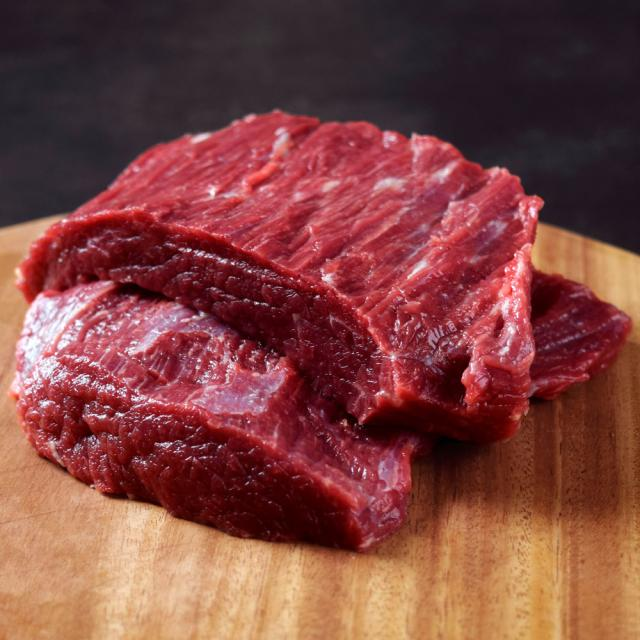beef: (115, 130, 503, 490)
